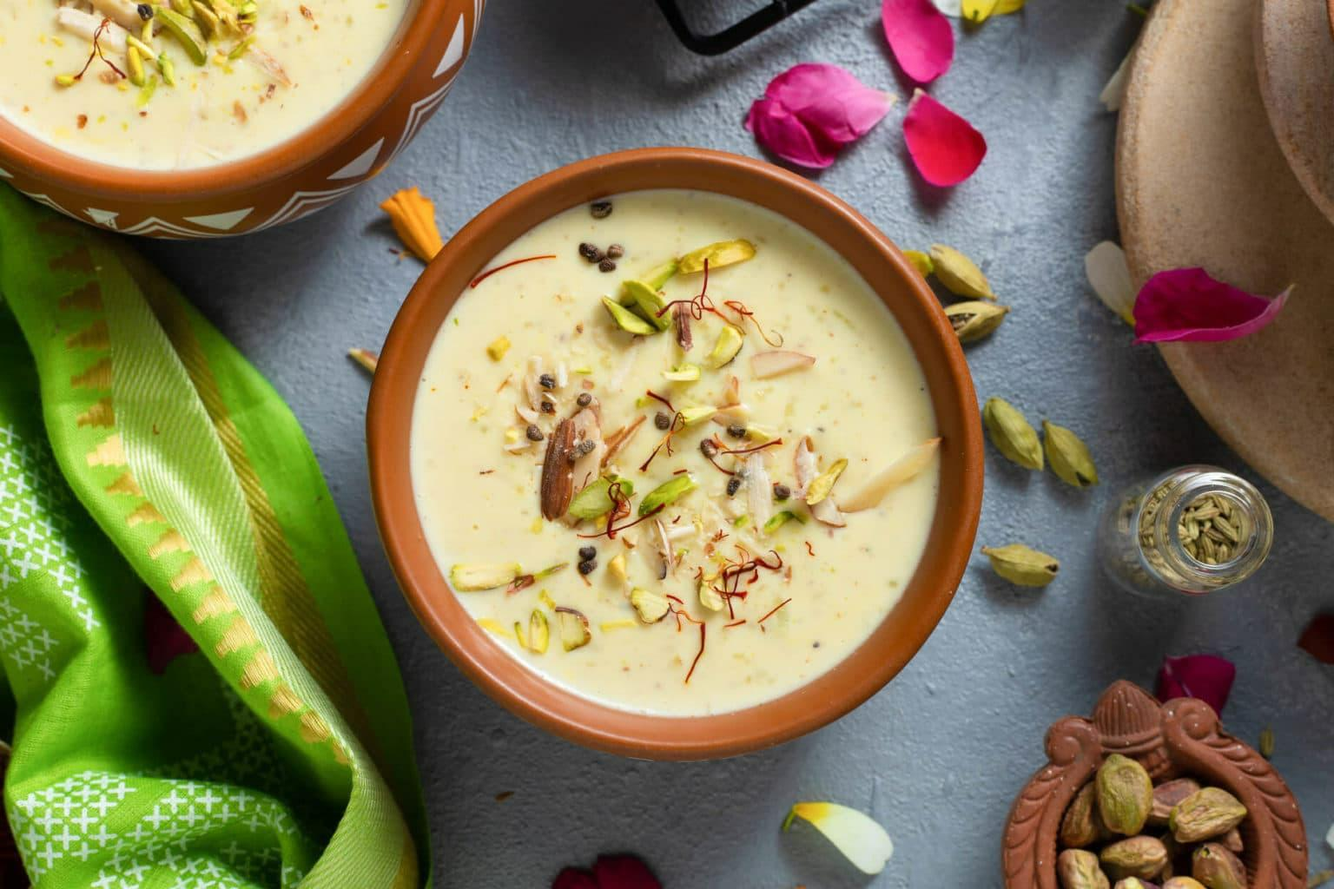Kheer: (416, 193, 937, 703), (3, 0, 401, 164)
